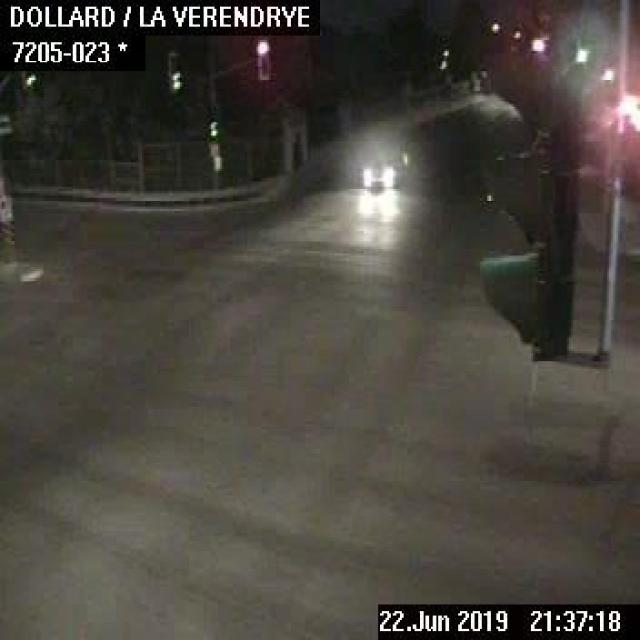vehicle: (360, 144, 411, 187)
